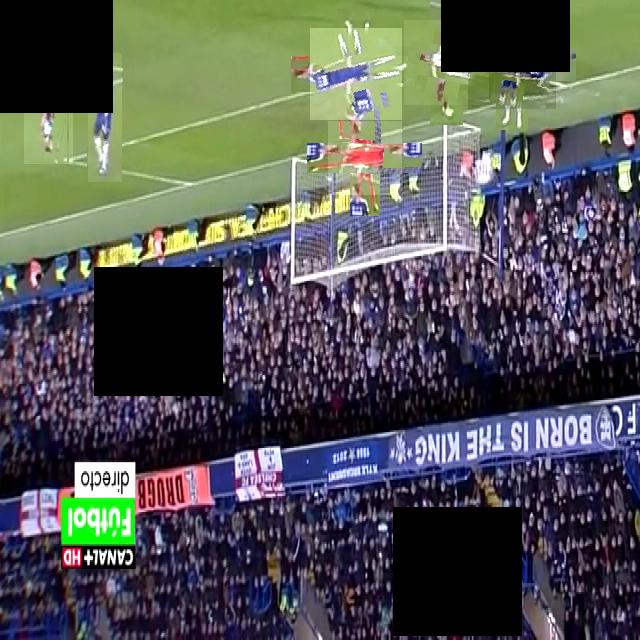goalkeeper: (328, 121, 402, 195)
soccer-player: (310, 28, 402, 120), (468, 21, 556, 109), (404, 20, 489, 105), (24, 33, 73, 164), (88, 53, 122, 182)
